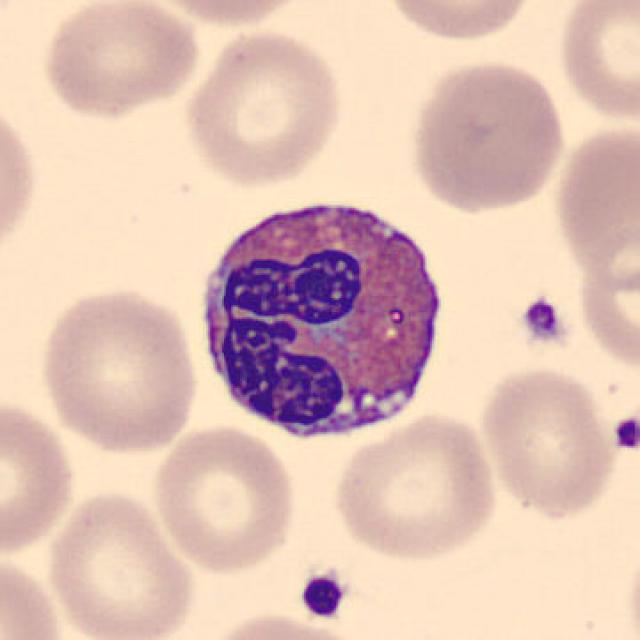Eosinophil: (187, 180, 457, 458)
Platelets: (517, 294, 569, 348), (297, 570, 348, 620), (608, 411, 638, 456)
RBC: (36, 282, 202, 457), (180, 25, 348, 190), (329, 409, 503, 564), (405, 57, 571, 215), (42, 486, 199, 640), (474, 361, 620, 522), (150, 422, 300, 576), (37, 0, 202, 123), (549, 116, 640, 298), (0, 393, 78, 561), (553, 0, 640, 127), (572, 221, 640, 377), (377, 0, 540, 46), (0, 92, 41, 268), (0, 550, 68, 640), (195, 608, 374, 640), (140, 0, 318, 32)
